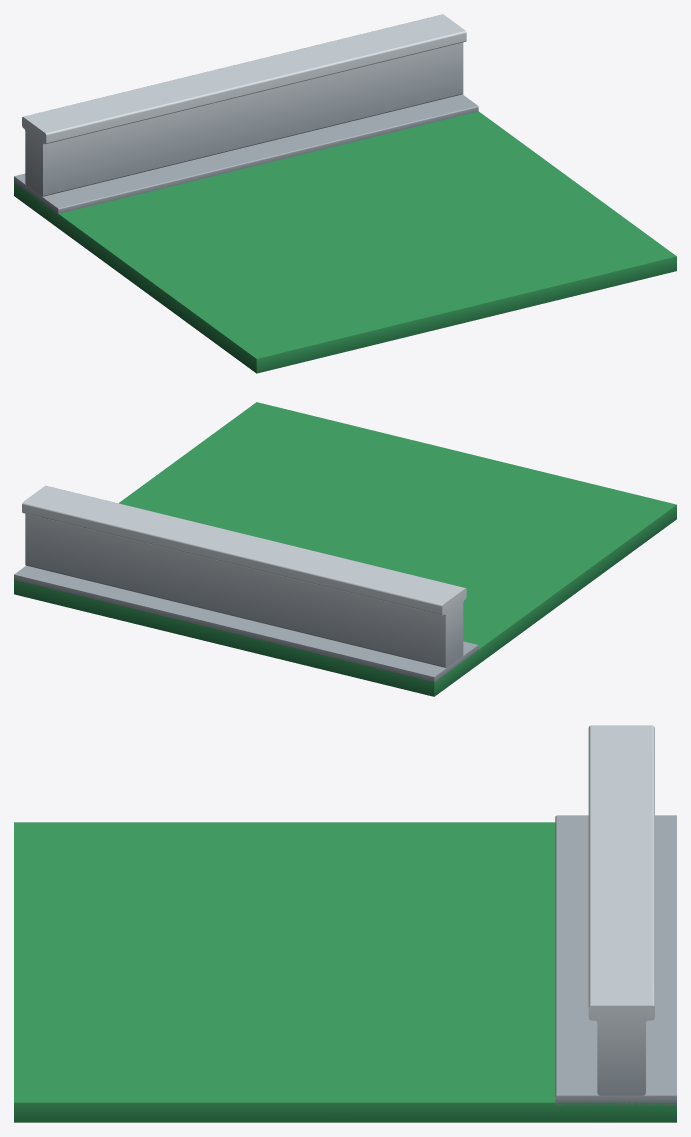
The model's file is muro_recto.glb.
3 views of the same model, one above another, from view 1: azimuth 30°, elevation 25°; view 2: azimuth 150°, elevation 25°; view 3: azimuth 270°, elevation 25° (orthographic). The views are drawn at different scales.
Visible parts, largest first — view 1: muro_recto; view 2: muro_recto; view 3: muro_recto.
Boxes of the visible parts, x1,y1,x2,y2 form: muro_recto: (14, 14, 676, 373); muro_recto: (14, 402, 676, 696); muro_recto: (14, 725, 676, 1122).
Bounding box in the file's own units: 6 × 1.17 × 6.
Materials: 1 (1 with a texture image).
